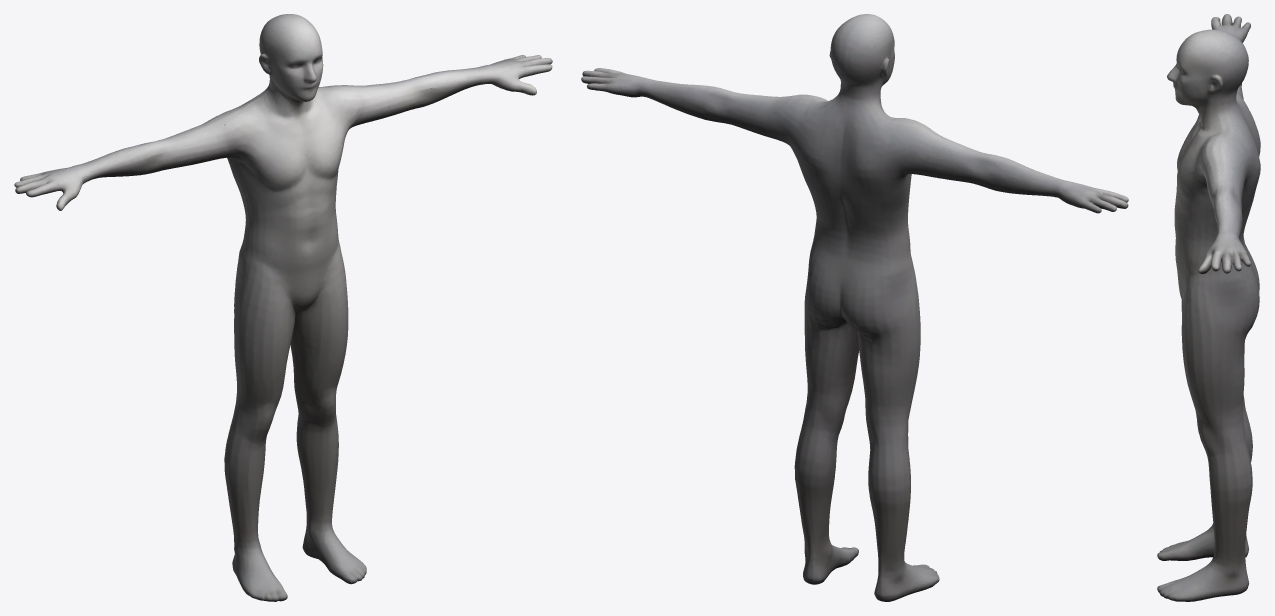
Rendered from sample_2026-11-01T094100.322.glb.
The picture shows the model from 3 angles, left to right: view 1: azimuth 30°, elevation 25°; view 2: azimuth 150°, elevation 25°; view 3: azimuth 270°, elevation 25°; orthographic projection. The views are drawn at different scales.
Visible parts, largest first — view 1: world; view 2: world; view 3: world.
Part boxes in pixels (<box>): world: <box>14,14,552,601</box>; world: <box>581,14,1128,601</box>; world: <box>1157,14,1260,601</box>.
Bounding box in the file's own units: 1 × 0.9949 × 0.1715.
1 material, 1 textured.
